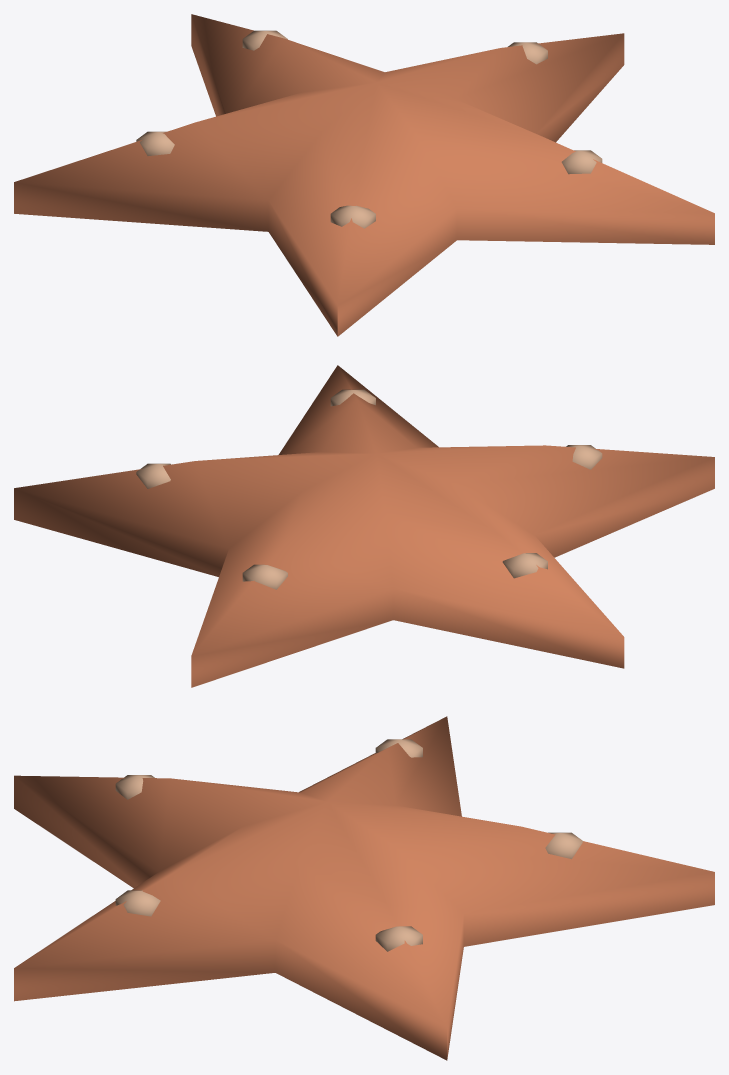
File: item_starfish.glb
The picture shows the model from 3 angles, top to bottom: view 1: azimuth 30°, elevation 25°; view 2: azimuth 150°, elevation 25°; view 3: azimuth 270°, elevation 25°; orthographic projection. The views are drawn at different scales.
Visible parts, largest first — view 1: item_starfish; view 2: item_starfish; view 3: item_starfish.
Part boxes in pixels (left/top/right/bottom): item_starfish: left=14, top=14, right=714, bottom=336; item_starfish: left=14, top=365, right=714, bottom=687; item_starfish: left=14, top=716, right=714, bottom=1060.
Size of the model in its own units: 0.1617 by 0.025 by 0.1538.
